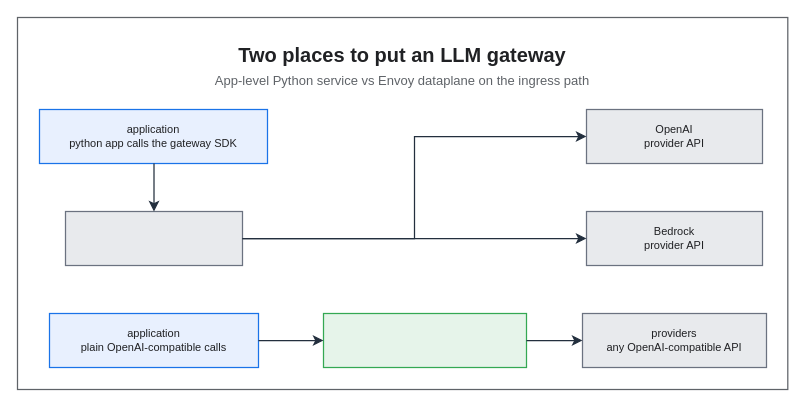
Image size: 806x408. Some labels were removed from this diagram. The centre of each missing label's shape, as x and y in pixels:
"Envoy AI Gateway ext processor on Envoy Proxy" belongs at point 424,340.
"LiteLLM proxy app-level python service" belongs at point 153,238.
